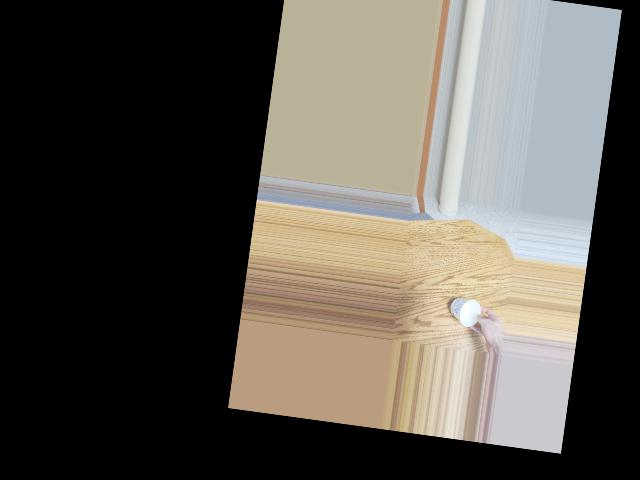cotage: (450, 297, 482, 322)
